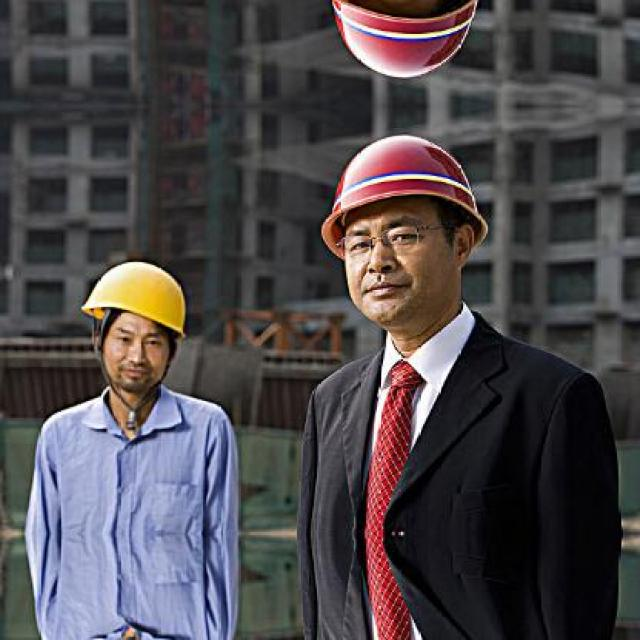helmet: (308, 121, 504, 343), (59, 235, 203, 411), (308, 0, 506, 93)
